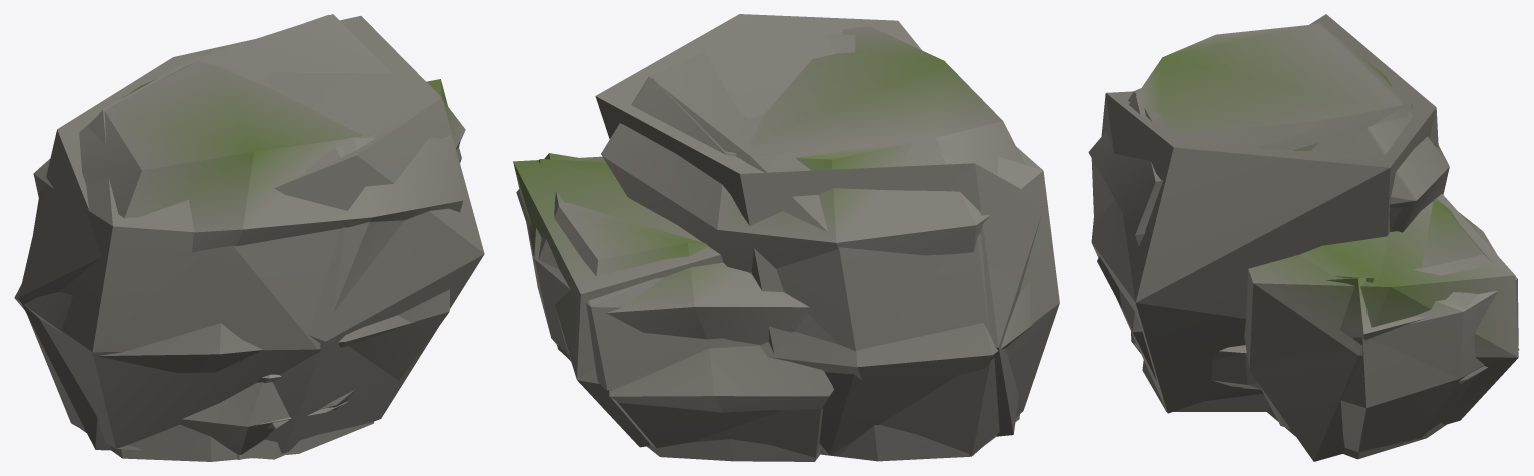
The model's file is BoulderB.source-pack-baseline.glb.
The picture shows the model from 3 angles, left to right: view 1: azimuth 30°, elevation 25°; view 2: azimuth 150°, elevation 25°; view 3: azimuth 270°, elevation 25°; orthographic projection. The views are drawn at different scales.
Visible parts, largest first — view 1: BoulderB_L1, BoulderB_L0, BoulderB_L2; view 2: BoulderB_L0, BoulderB_L1, BoulderB_L2; view 3: BoulderB_L2, BoulderB_L0, BoulderB_L1.
Part boxes in pixels (x1,y1,x2,y2): BoulderB_L1: (28, 14, 460, 459); BoulderB_L0: (14, 14, 465, 461); BoulderB_L2: (18, 16, 484, 453); BoulderB_L0: (516, 26, 1036, 461); BoulderB_L1: (526, 34, 1059, 460); BoulderB_L2: (513, 14, 1042, 447); BoulderB_L2: (1091, 14, 1518, 461); BoulderB_L0: (1088, 24, 1519, 459); BoulderB_L1: (1091, 22, 1518, 452).
Size of the model in its own units: 1.8 by 1.21 by 1.5.
